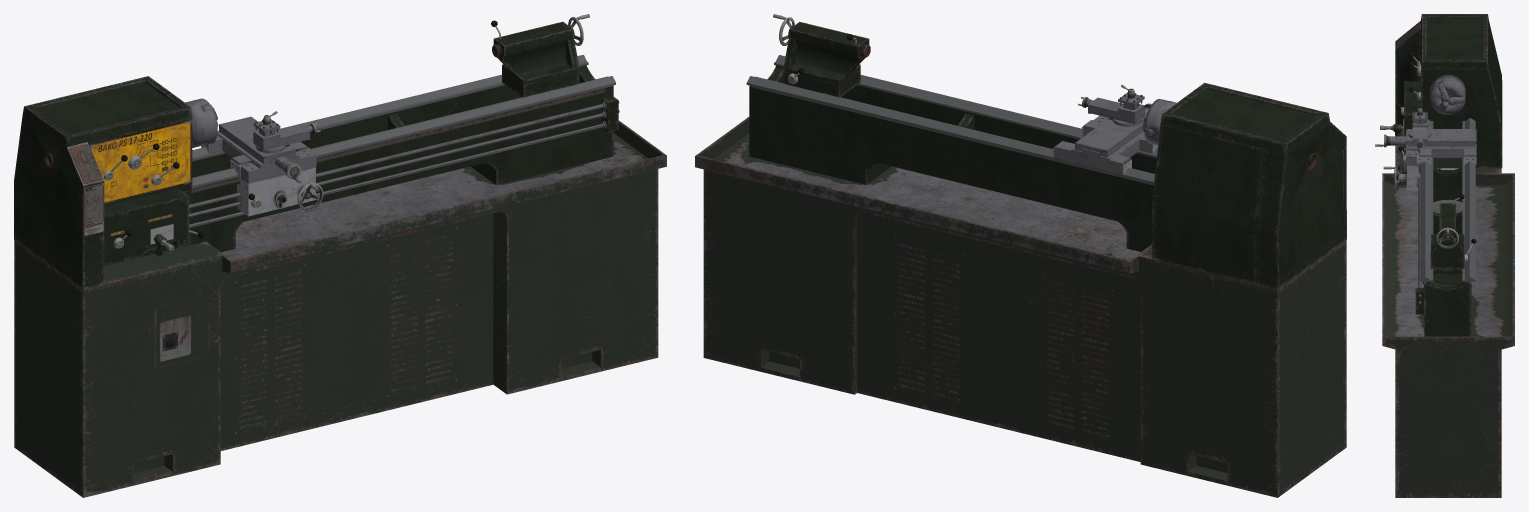
Rendered from lathe.fbx.
3 views of the same model, side by side, from view 1: azimuth 30°, elevation 25°; view 2: azimuth 150°, elevation 25°; view 3: azimuth 270°, elevation 25° (orthographic). The views are drawn at different scales.
Parts seen in each view (by area): view 1: object_0, kartka, napravlayki, spindel; view 2: object_0, kartka, spindel; view 3: object_0, kartka, spindel, napravlayki, pichag8.
Boxes of the visible parts, x1,y1,x2,y2 form: object_0: [14, 21, 666, 497]; kartka: [201, 111, 323, 216]; napravlayki: [189, 101, 619, 237]; spindel: [185, 98, 218, 147]; object_0: [695, 22, 1346, 497]; kartka: [1053, 84, 1157, 175]; spindel: [1143, 99, 1176, 145]; object_0: [1382, 14, 1514, 497]; kartka: [1375, 108, 1476, 191]; spindel: [1430, 75, 1465, 114]; napravlayki: [1399, 148, 1421, 304]; pichag8: [1436, 227, 1458, 248].
Size of the model in its own units: 11.26 by 6.49 by 3.07.
